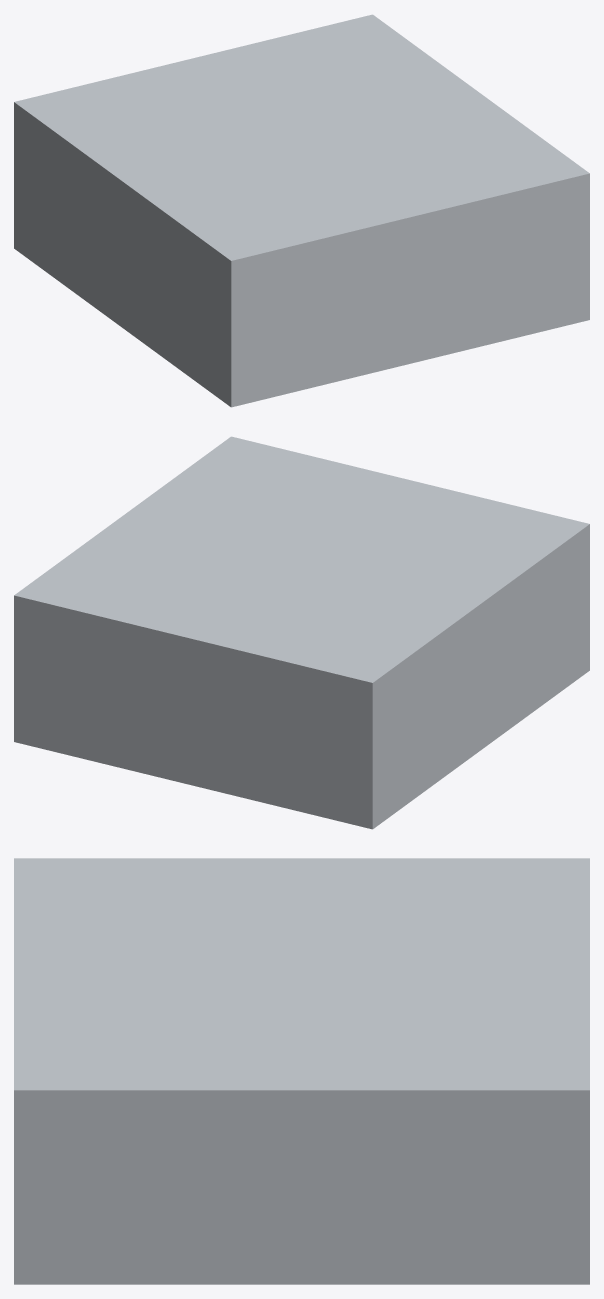
File: npc_crew_hand.fbx
3 views of the same model, one above another, from view 1: azimuth 30°, elevation 25°; view 2: azimuth 150°, elevation 25°; view 3: azimuth 270°, elevation 25° (orthographic). The views are drawn at different scales.
Visible parts, largest first — view 1: npc_crew_hand; view 2: npc_crew_hand; view 3: npc_crew_hand.
Boxes of the visible parts, x1=… form: npc_crew_hand: x1=14, y1=14, x2=589, y2=407; npc_crew_hand: x1=14, y1=436, x2=589, y2=829; npc_crew_hand: x1=14, y1=858, x2=589, y2=1284.
Size of the model in its own units: 82 by 32 by 86.
